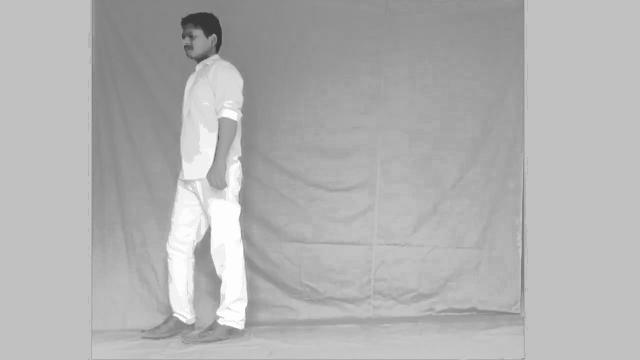berjalan: (143, 10, 253, 350)
